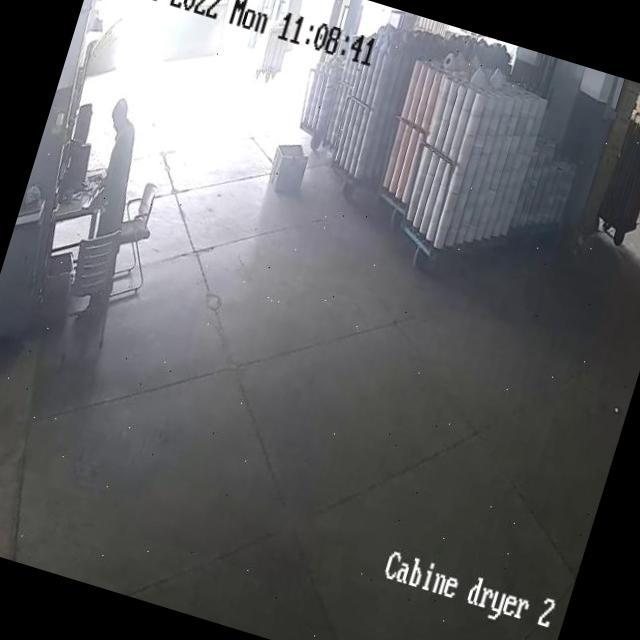person: (78, 91, 155, 223)
